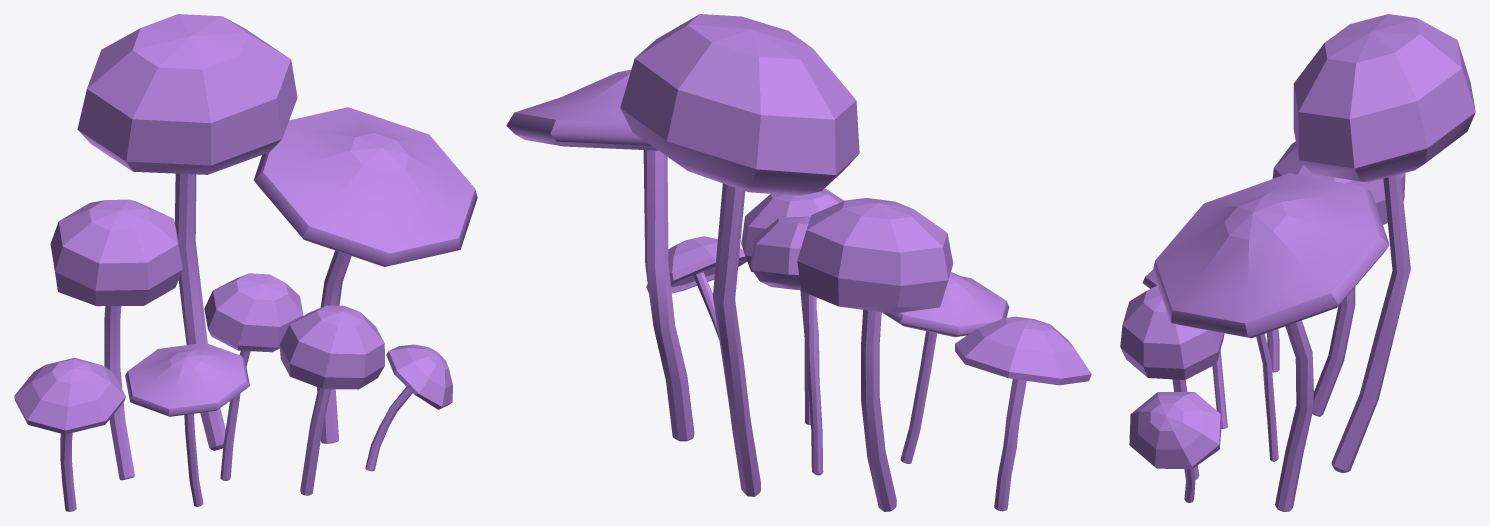
The model's file is Mushroom Clump.fbx.
3 renders of one model, left to right at view 1: azimuth 30°, elevation 25°; view 2: azimuth 150°, elevation 25°; view 3: azimuth 270°, elevation 25°, orthographic. The views are drawn at different scales.
Parts seen in each view (by area): view 1: Oval_Mushroom (×2), Dip_Mushroom (×2), Gumdrop_Mushroom (×2), Default_Mushroom (×2); view 2: Oval_Mushroom (×2), Gumdrop_Mushroom (×2), Dip_Mushroom (×2), Default_Mushroom (×2); view 3: Dip_Mushroom (×2), Oval_Mushroom (×2), Gumdrop_Mushroom (×2), Default_Mushroom (×2).
Part boxes in pixels (<box>): Oval_Mushroom (×2): <box>77,14,303,480</box>; Dip_Mushroom (×2): <box>125,107,477,506</box>; Gumdrop_Mushroom (×2): <box>50,199,384,495</box>; Default_Mushroom (×2): <box>14,344,452,511</box>; Oval_Mushroom (×2): <box>620,14,859,496</box>; Gumdrop_Mushroom (×2): <box>741,189,953,511</box>; Dip_Mushroom (×2): <box>506,70,1009,463</box>; Default_Mushroom (×2): <box>646,236,1091,511</box>; Dip_Mushroom (×2): <box>1142,173,1389,511</box>; Oval_Mushroom (×2): <box>1256,14,1475,473</box>; Gumdrop_Mushroom (×2): <box>1120,141,1405,479</box>; Default_Mushroom (×2): <box>1129,329,1279,502</box>.
Size of the model in its own units: 30.59 by 26.4 by 19.46.
